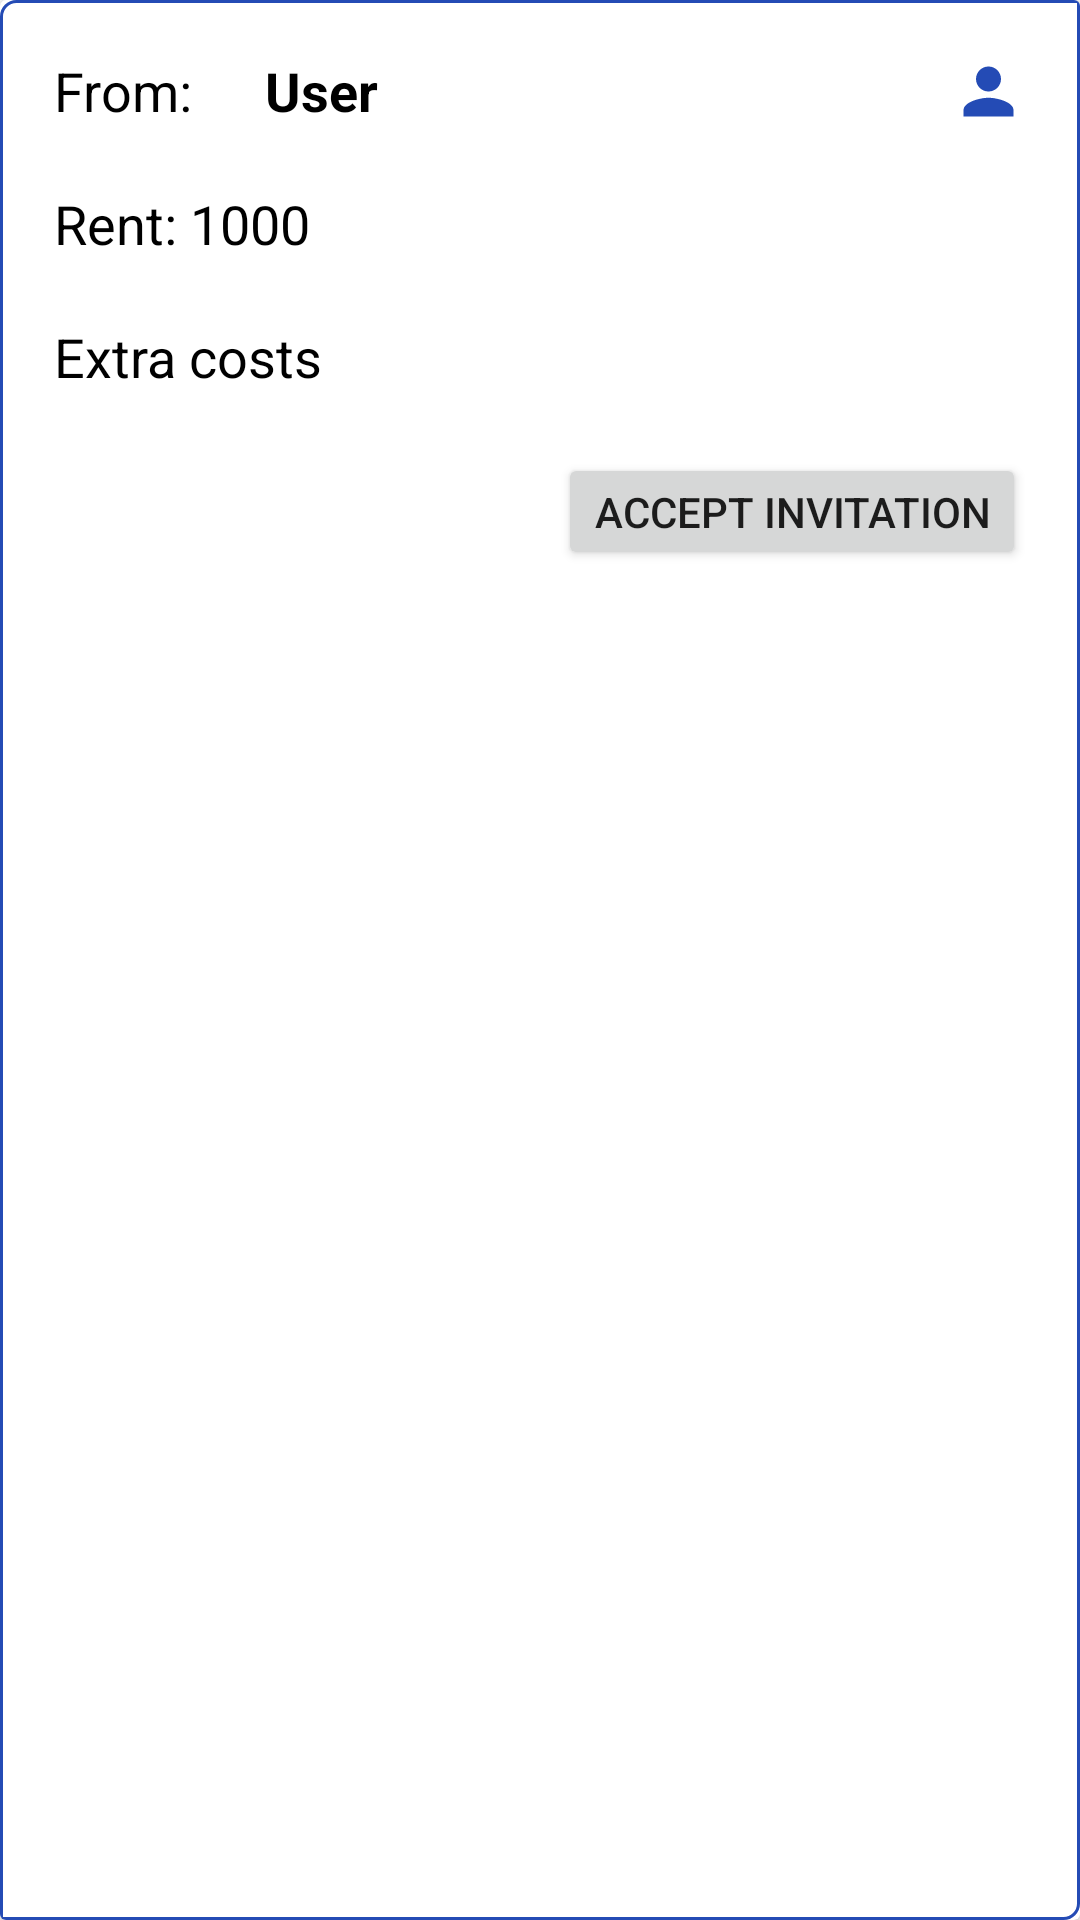

Where icons sit on this 1080×1920 app screen, as [x1=x1, y1=y1, x2=x2, y2=y2]:
person: [x1=963, y1=66, x2=1014, y2=117]
